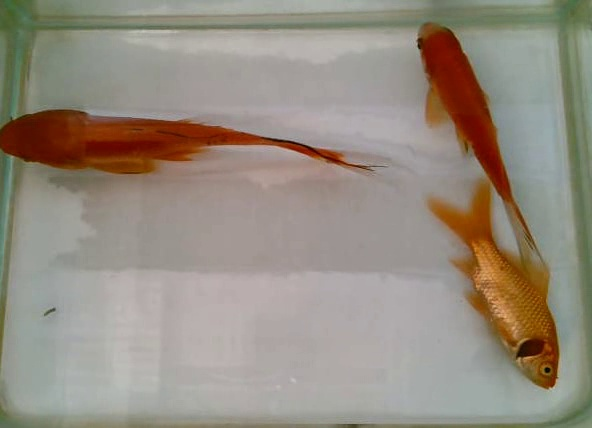alive_fish: (411, 19, 557, 284), (1, 98, 390, 191)
dead_fish: (421, 174, 575, 394)
